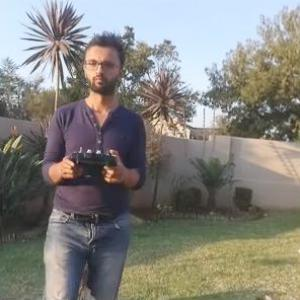follow: (34, 23, 148, 299)
